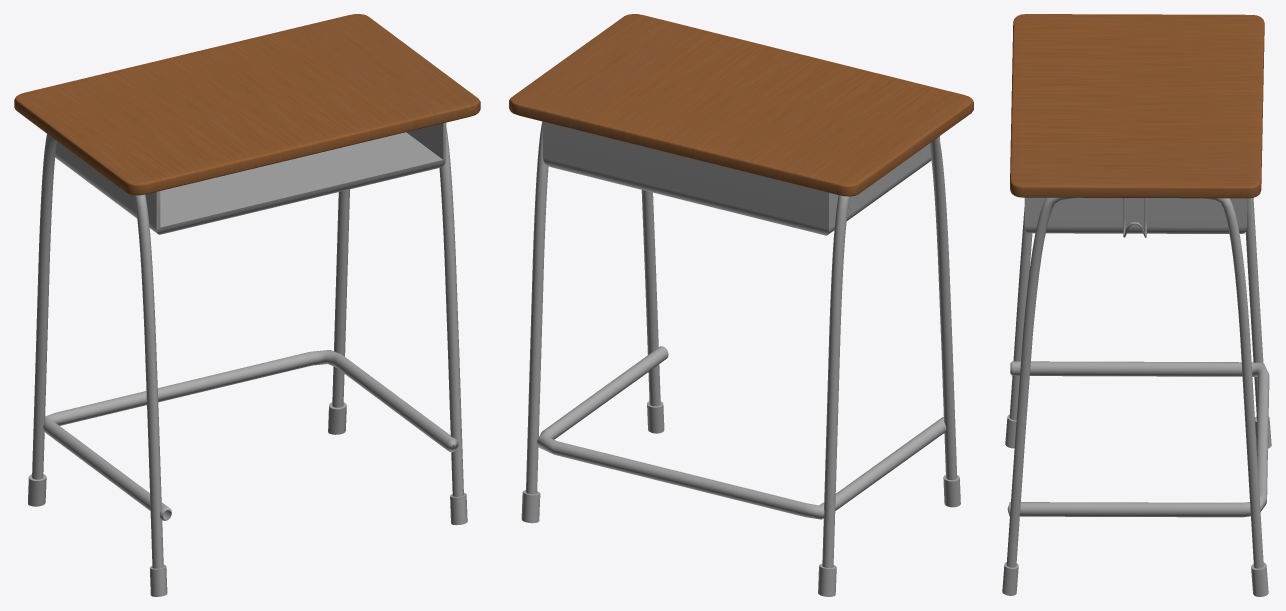
Rendered from desk.fbx.
3 renders of one model, left to right at view 1: azimuth 30°, elevation 25°; view 2: azimuth 150°, elevation 25°; view 3: azimuth 270°, elevation 25°, orthographic.
Visible parts, largest first — view 1: desk; view 2: desk; view 3: desk.
Boxes of the visible parts, <box> form: desk: <box>14,14,480,596</box>; desk: <box>509,14,973,596</box>; desk: <box>1002,14,1271,596</box>.
Bounding box in the file's own units: 86.04 × 96.64 × 56.18.
